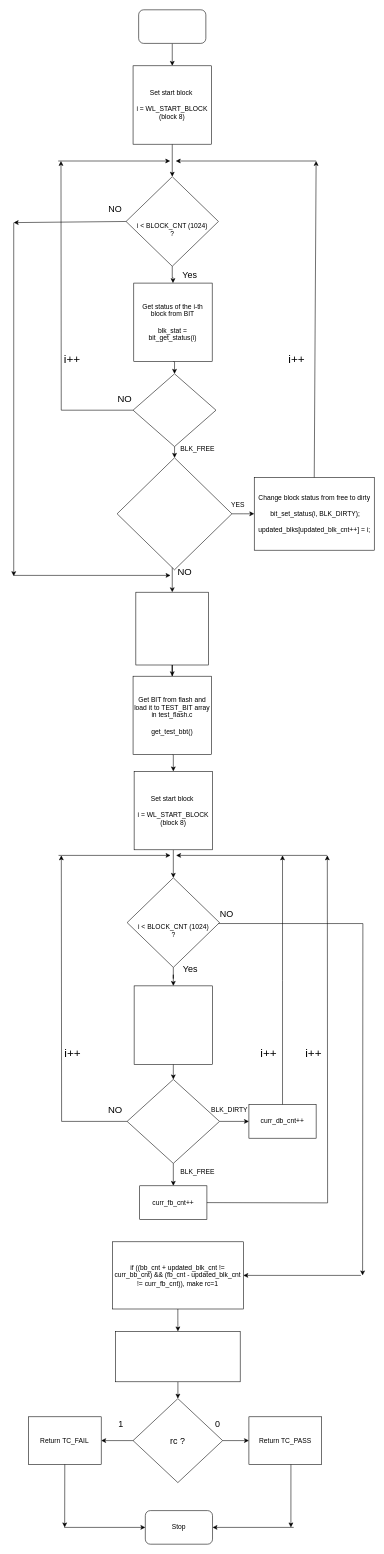
This 384x1554 diagram has some shape labels left out. Each missing label, with the centre of its shape:
"blk_stat == BLK_FREE ?" goes at point 174,410.
"blk_stat == BLK_FREE/BLK_DIRTY ?" goes at point 173,1121.
"check if updated block count is less than four if(updated_blk_cnt >= 4) break;" goes at point 174,513.
"Get status of the i-th block from TEST_BIT blk_stat = test_bit_get_status(i)" goes at point 173,1024.
"Revert the modified block status bit_set_status(updated_blks[i], BLK_FREE)" goes at point 177,1356.
"Save current BIT to flash from ltffs.c fs_save_bit()" goes at point 172,628.
"start" goes at point 172,26.
